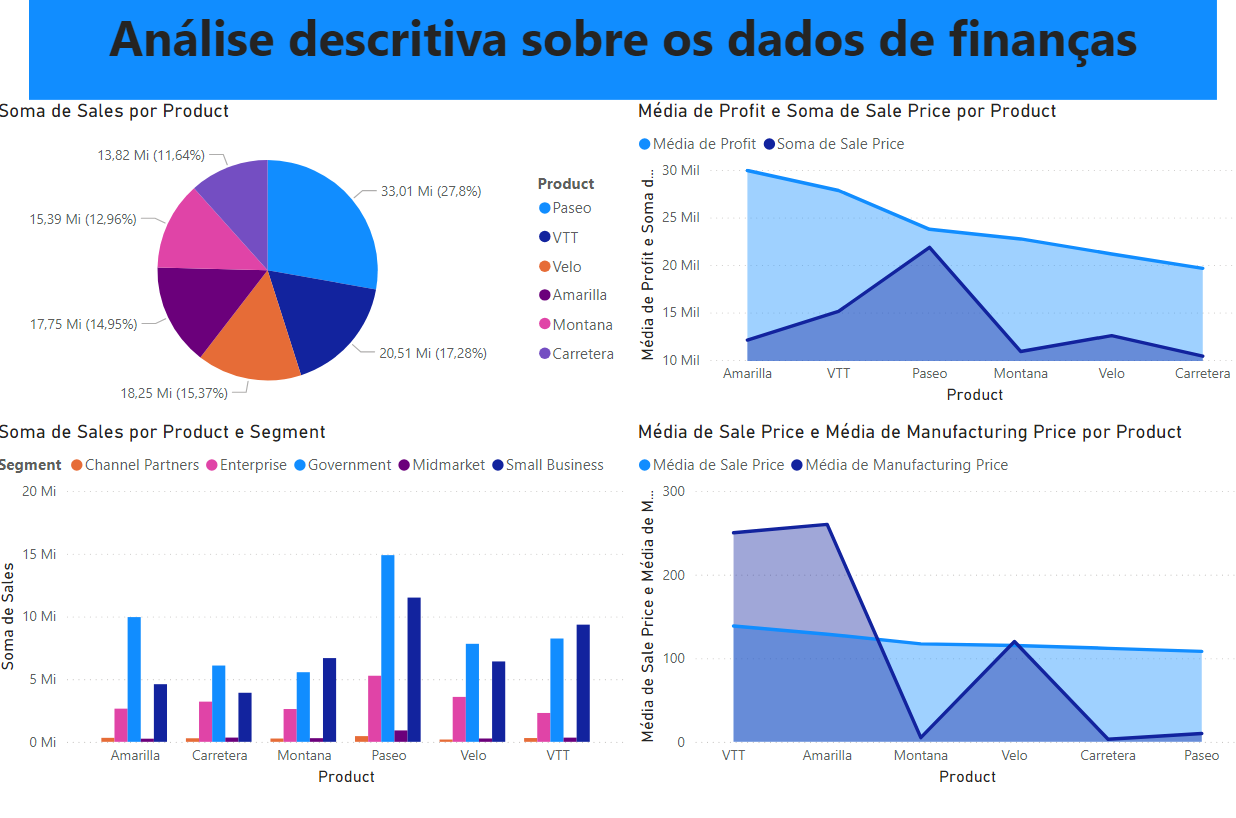

This screenshot's page, from the dashboard's own definition file:
{"tool":"powerbi","page":{"name":"Página 3","canvas":[1280,720],"ordinal":2},"visuals":[{"type":"pieChart","fields":{"Y":["Sum(financials. Sales)"],"Category":["financials.Product"]},"box":[88.7,88.7,558.6,280.2],"z":0},{"type":"areaChart","fields":{"Y":["Avg(financials.Sale Price)","Avg(financials.Manufacturing Price)"],"Category":["financials.Product"]},"box":[647.3,368.9,535.6,324.5],"z":1000},{"type":"areaChart","fields":{"Y":["Avg(financials.Profit)","Sum(financials.Sale Price)"],"Category":["financials.Product"]},"box":[647.3,88.7,535.6,271.3],"z":2000},{"type":"lineClusteredColumnComboChart","fields":{"Category":["financials.Product","financials.Year"],"Y":["Sum(financials. Sales)"],"Series":["financials.Segment"]},"box":[88.7,368.9,558.6,324.5],"z":3000},{"type":"textbox","box":[120.6,0,1038.3,88.7],"z":3001}]}

Visuals, with their boxes on the page's 1280x720 design canvas (x1, y1, x2, y2). These are canvas units, not pixel positions in the 1236x818 screenshot, which may show the page scaled, cropped or inside an application window:
pieChart - Sum(financials. Sales) x financials.Product: left=89, top=89, right=647, bottom=369
areaChart - Avg(financials.Sale Price) x Avg(financials.Manufacturing Price): left=647, top=369, right=1183, bottom=693
areaChart - Avg(financials.Profit) x Sum(financials.Sale Price): left=647, top=89, right=1183, bottom=360
lineClusteredColumnComboChart - financials.Product x financials.Year: left=89, top=369, right=647, bottom=693
textbox: left=121, top=0, right=1159, bottom=89
